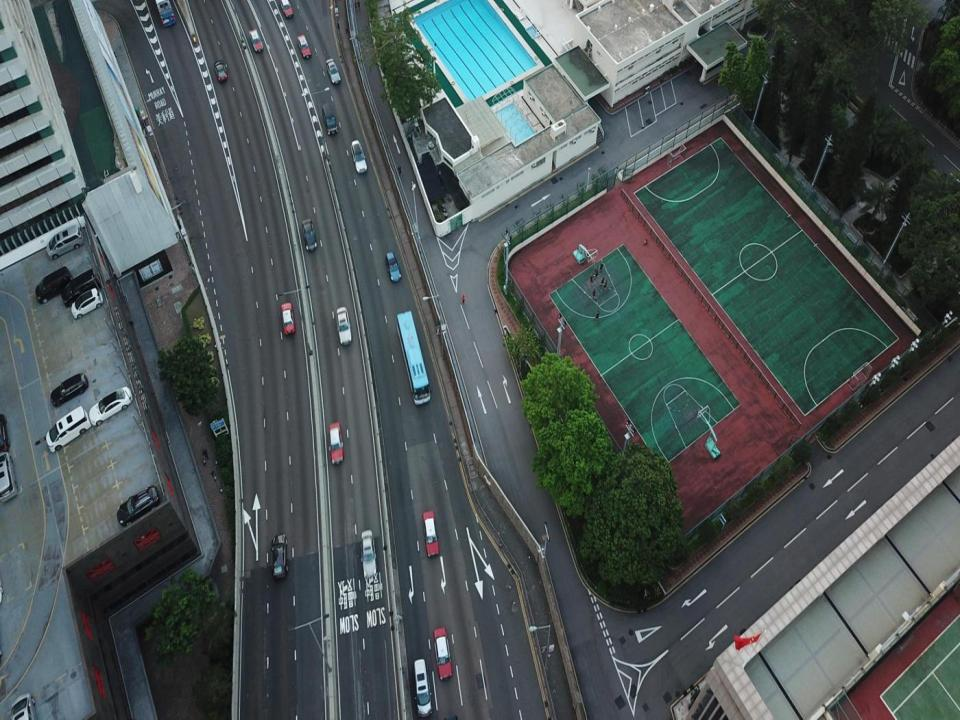bus: (397, 310, 431, 405), (154, 0, 176, 27)
car: (88, 386, 133, 428), (117, 486, 159, 526), (50, 373, 89, 407), (70, 287, 104, 319), (434, 627, 452, 680), (0, 455, 17, 505), (270, 534, 288, 579), (423, 510, 440, 556), (360, 529, 376, 576), (329, 421, 344, 466), (11, 694, 37, 719), (336, 306, 351, 345), (351, 140, 368, 172), (302, 218, 317, 252), (385, 253, 402, 282), (281, 302, 294, 334), (0, 414, 10, 454), (326, 58, 340, 85), (249, 27, 263, 52), (297, 33, 311, 57), (214, 60, 227, 80), (280, 0, 293, 19)
van: (45, 406, 91, 453), (62, 268, 102, 305), (46, 224, 84, 260), (35, 266, 71, 304), (414, 658, 432, 715), (321, 102, 337, 134)
